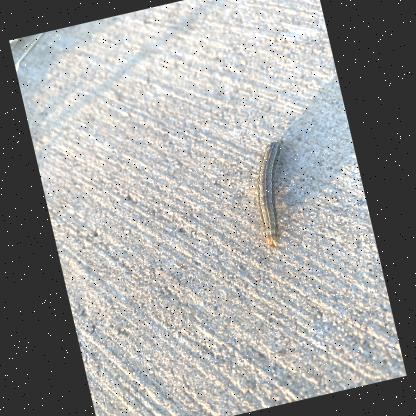Fall Armyworm Larvae: (240, 137, 307, 253)
